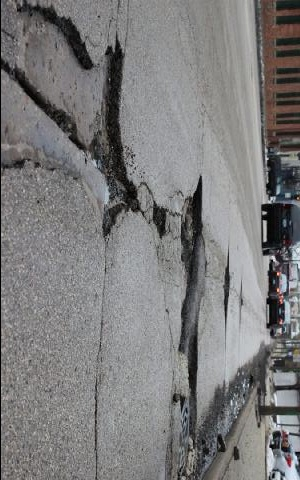pothole: (0, 1, 141, 243), (178, 173, 206, 265), (185, 324, 201, 438), (151, 199, 169, 241), (222, 253, 231, 319)
